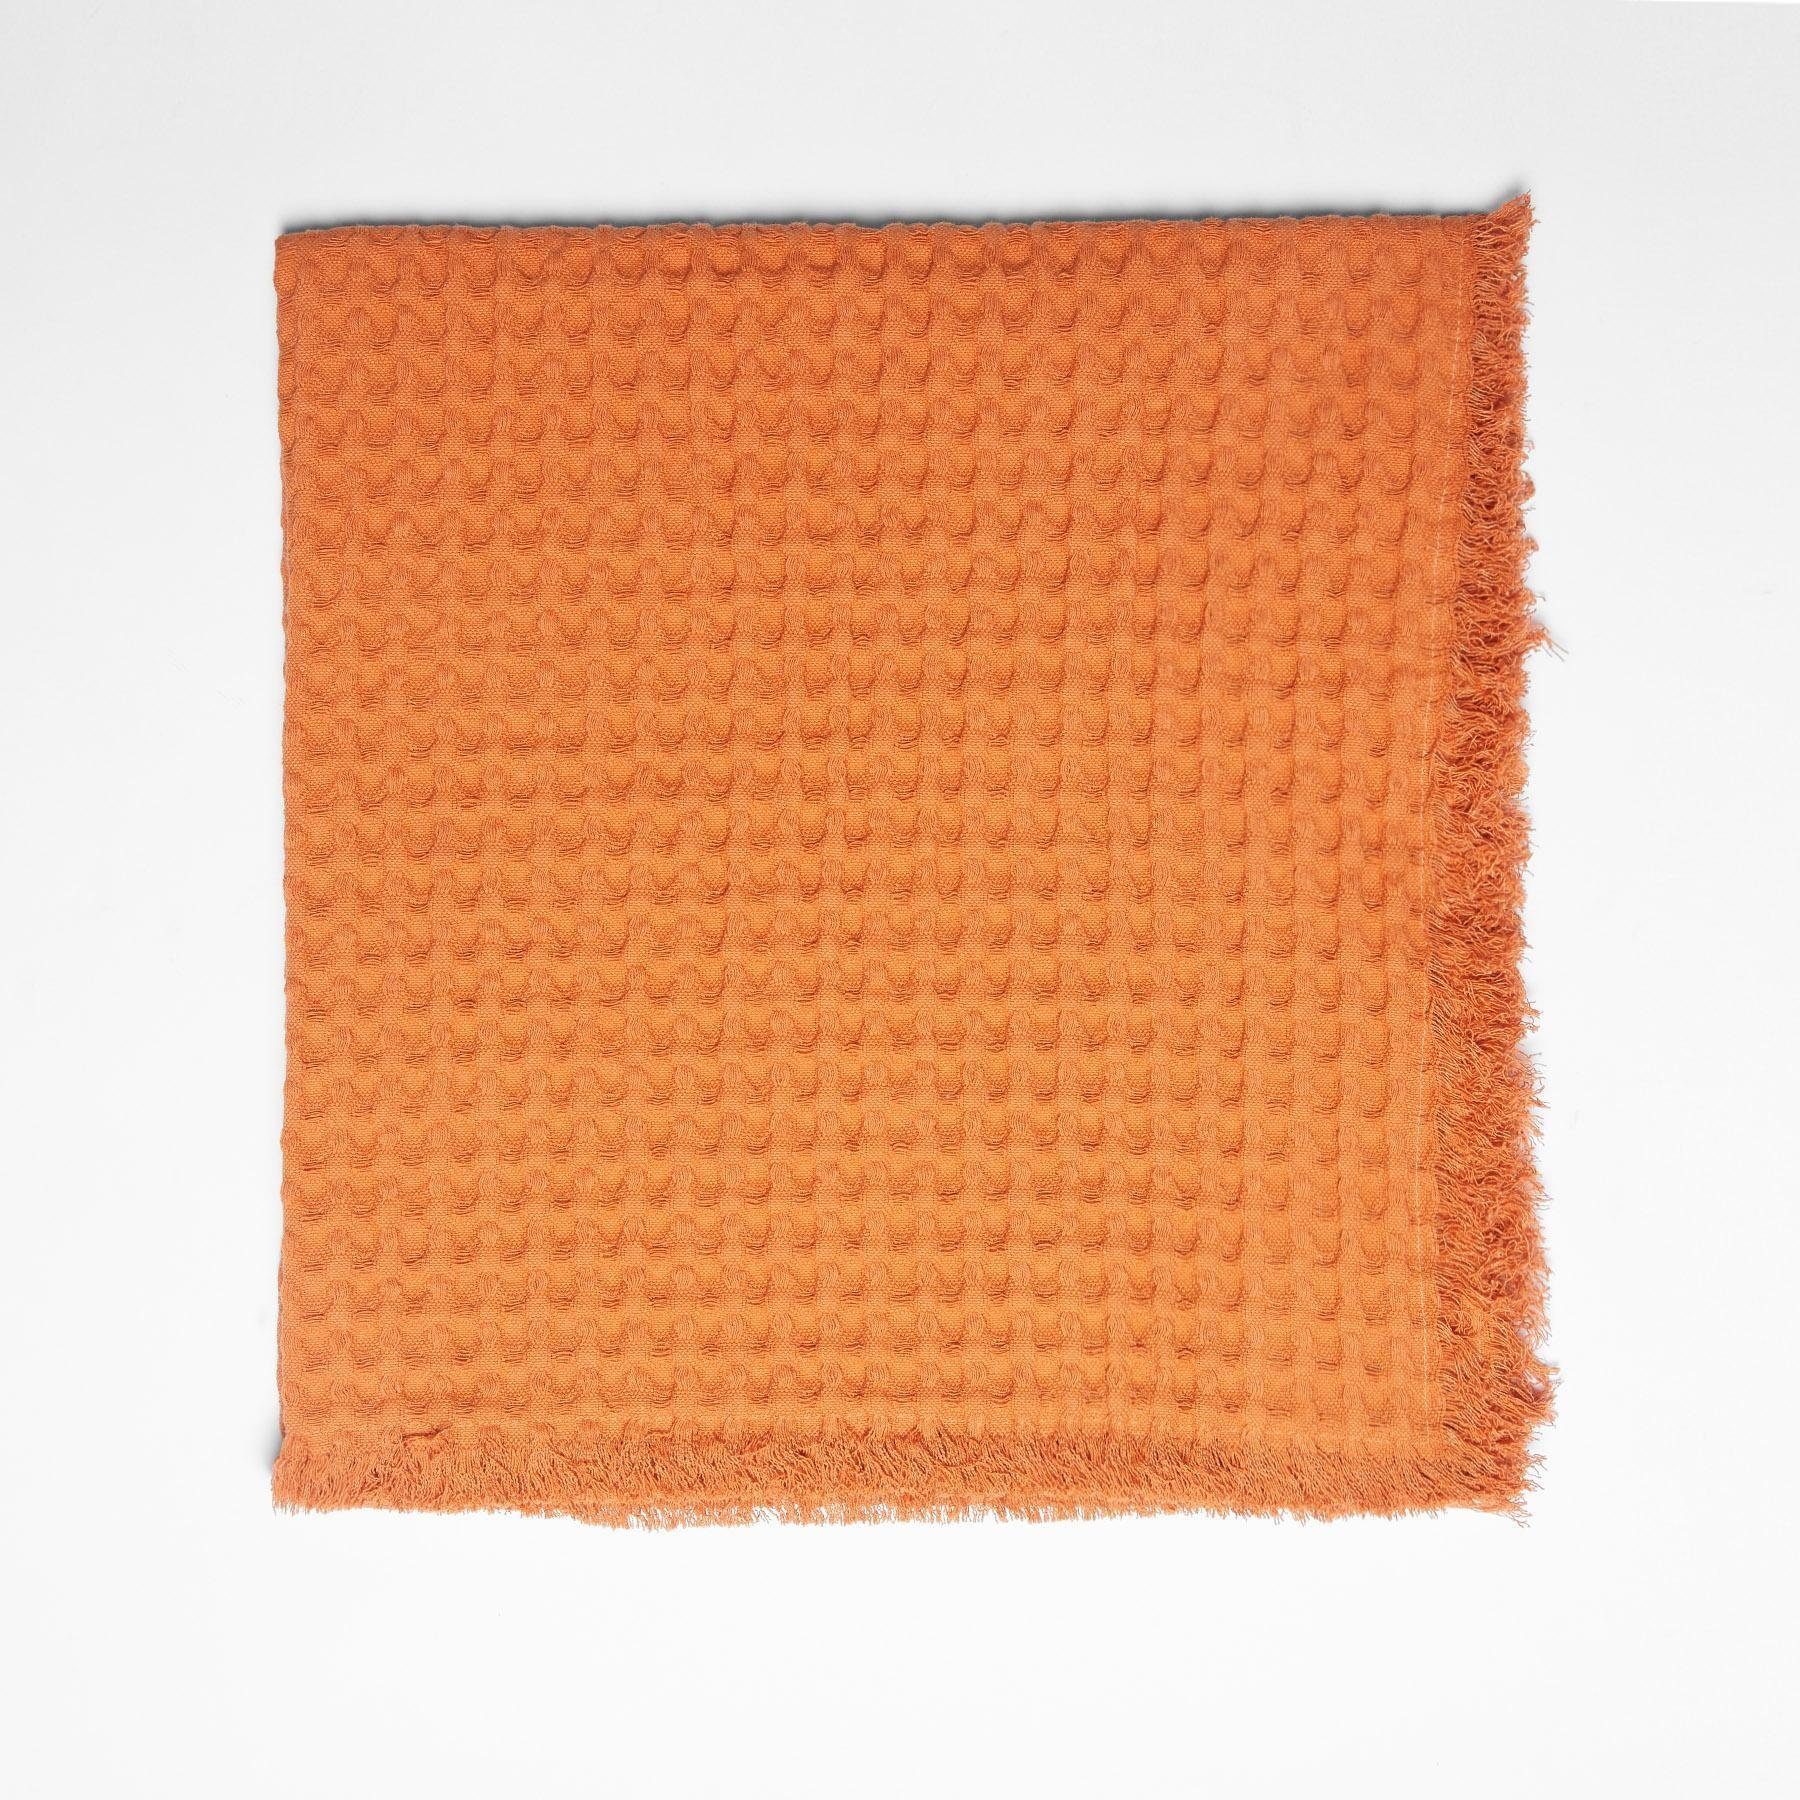towel: (246, 190, 1576, 1564)
